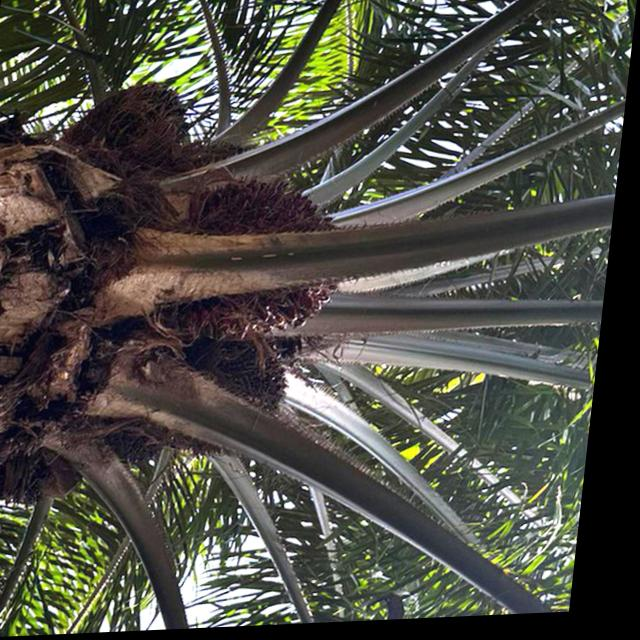ripe: (175, 170, 370, 339), (148, 325, 307, 470), (74, 77, 205, 183), (2, 429, 107, 513)
